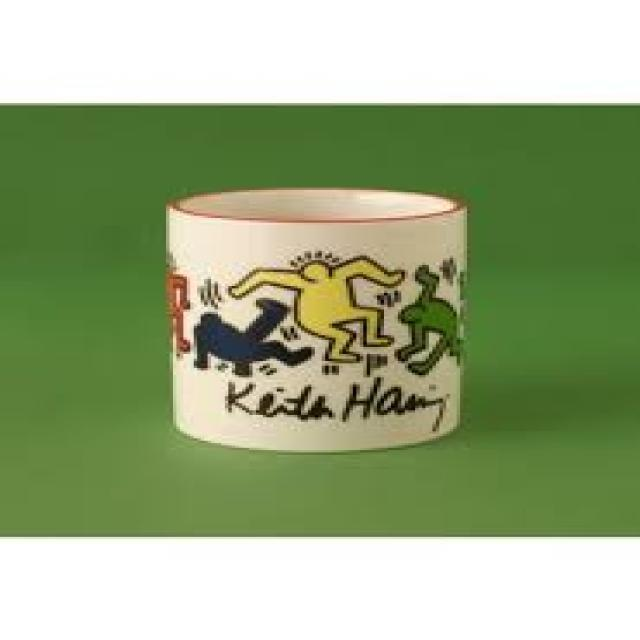taza: (168, 184, 470, 452)
